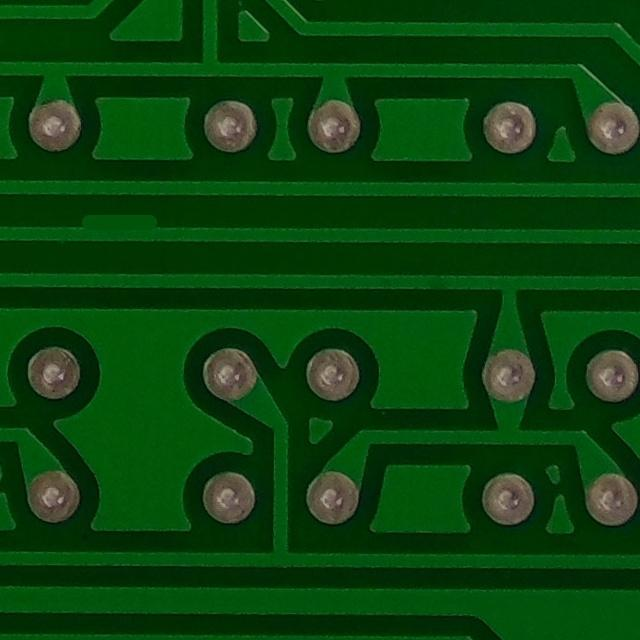spur: (66, 201, 175, 248)
